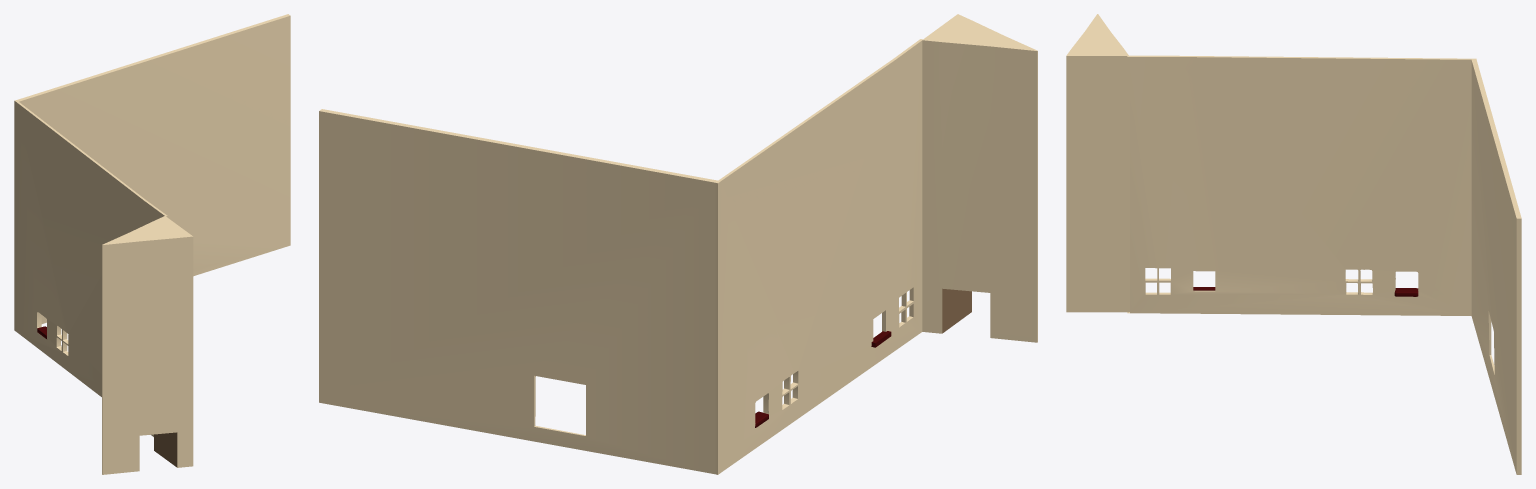
The model's file is ocean_room.fbx.
3 views of the same model, side by side, from view 1: azimuth 30°, elevation 25°; view 2: azimuth 150°, elevation 25°; view 3: azimuth 270°, elevation 25° (orthographic). The views are drawn at different scales.
Visible parts, largest first — view 1: ocean_room.001; view 2: ocean_room.001; view 3: ocean_room.001.
Boxes of the visible parts, x1,y1,x2,y2 form: ocean_room.001: (14, 14, 290, 474); ocean_room.001: (319, 14, 1037, 474); ocean_room.001: (1066, 14, 1521, 474).
Size of the model in its own units: 1956 by 1142 by 1839.
